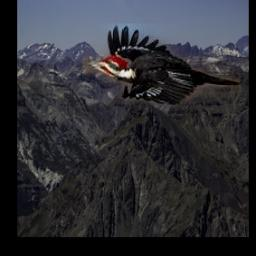Woodpecker: (82, 24, 240, 106)
